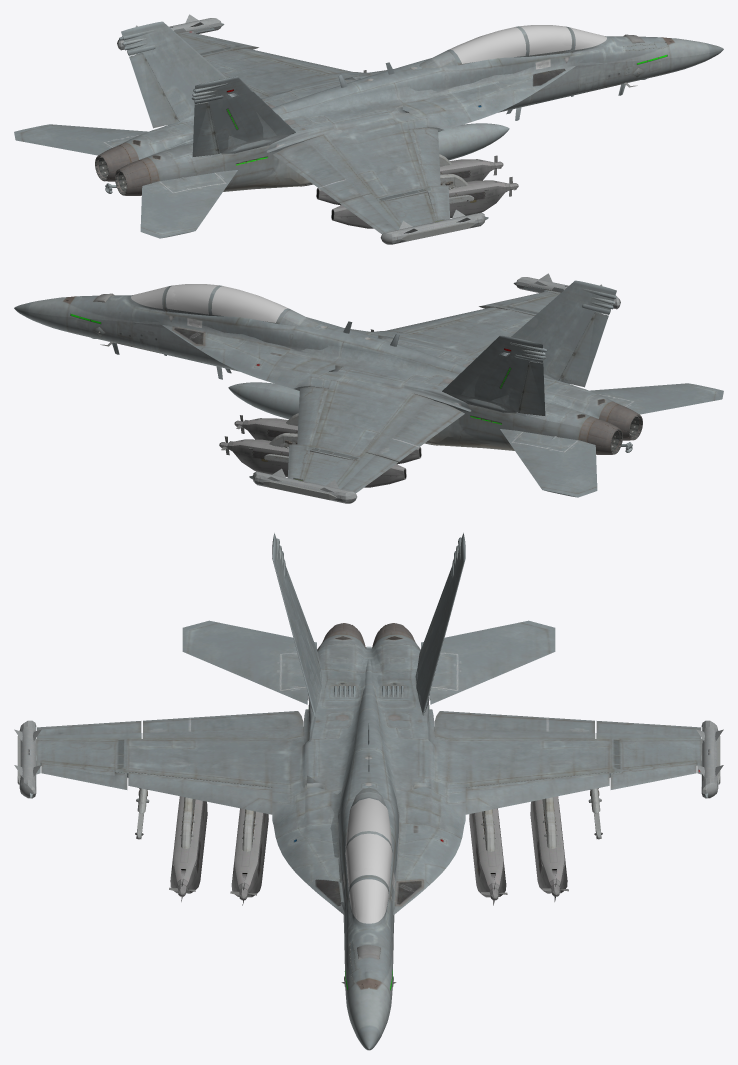
3 renders of one model, top to bottom at view 1: azimuth 30°, elevation 25°; view 2: azimuth 150°, elevation 25°; view 3: azimuth 270°, elevation 25°, orthographic. The views are drawn at different scales.
Parts seen in each view (by area): view 1: f18e_airframe, e18g_airframe, e18g_glass, f18eTG_swpx_dptk_wpn_position, f18e_canopyFr; view 2: f18e_airframe, e18g_airframe, e18g_glass, f18eTG_swpx_dptk_wpn_position, f18e_canopyFr; view 3: f18e_airframe, e18g_airframe, e18g_glass, f18eTG_swp2_hvaa_rack, f18e_canopyFr, f18e_swp2_lagm_rack.
Part boxes in pixels (x1=…): f18e_airframe: x1=14, y1=21, x2=723, y2=238; e18g_airframe: x1=15, y1=14, x2=672, y2=244; e18g_glass: x1=193, y1=25, x2=601, y2=91; f18eTG_swpx_dptk_wpn_position: x1=438, y1=123, x2=509, y2=160; f18e_canopyFr: x1=570, y1=27, x2=606, y2=49; f18e_airframe: x1=14, y1=280, x2=723, y2=497; e18g_airframe: x1=65, y1=273, x2=722, y2=503; e18g_glass: x1=136, y1=284, x2=616, y2=322; f18eTG_swpx_dptk_wpn_position: x1=228, y1=382, x2=299, y2=419; f18e_canopyFr: x1=131, y1=286, x2=167, y2=308; f18e_airframe: x1=30, y1=533, x2=707, y2=1050; e18g_airframe: x1=14, y1=536, x2=723, y2=989; e18g_glass: x1=345, y1=798, x2=392, y2=918; f18eTG_swp2_hvaa_rack: x1=136, y1=788, x2=601, y2=848; f18e_canopyFr: x1=349, y1=879, x2=388, y2=923; f18e_swp2_lagm_rack: x1=242, y1=809, x2=495, y2=851.
Size of the model in its own units: 18.29 by 4.64 by 13.62.
Materials: 3 (2 with a texture image).
